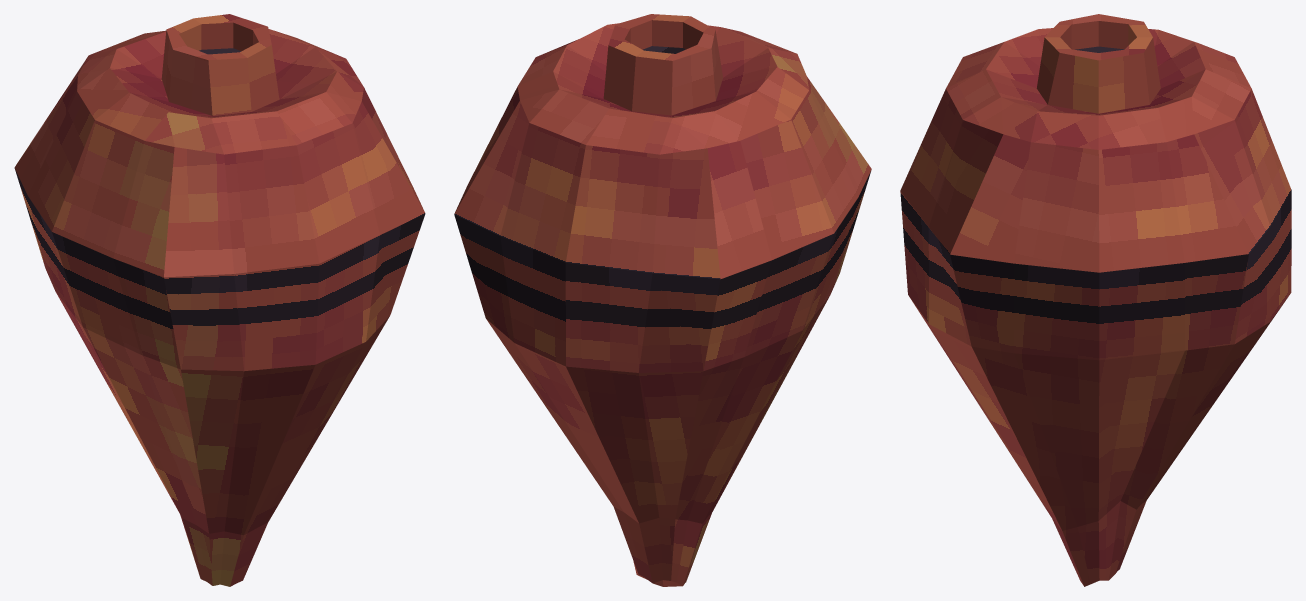
The model's file is Pião.gltf.
3 views of the same model, side by side, from view 1: azimuth 30°, elevation 25°; view 2: azimuth 150°, elevation 25°; view 3: azimuth 270°, elevation 25° (orthographic).
Parts seen in each view (by area): view 1: pião; view 2: pião; view 3: pião.
Boxes of the visible parts, x1,y1,x2,y2 form: pião: (14, 14, 425, 586); pião: (454, 14, 871, 586); pião: (900, 14, 1291, 586).
Size of the model in its own units: 0.8621 by 1.32 by 0.8643.
1 material, 1 textured.
